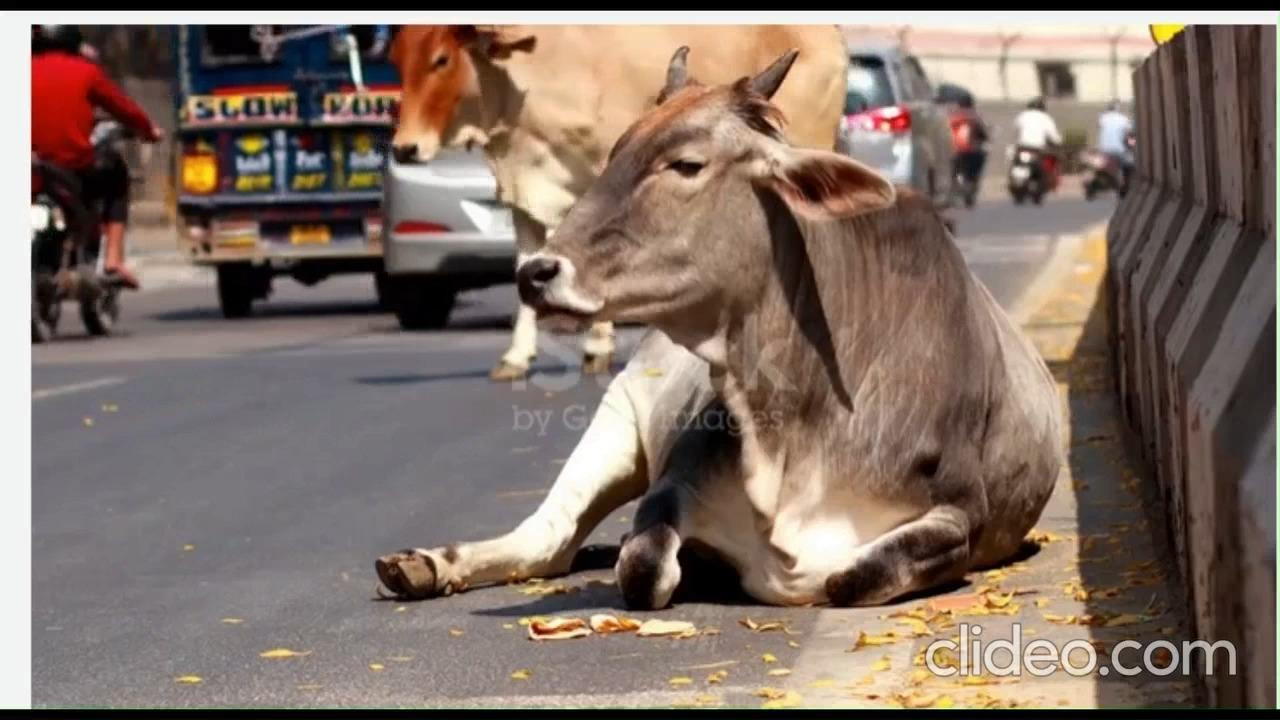Cow: (376, 52, 1049, 603), (389, 27, 844, 383)
